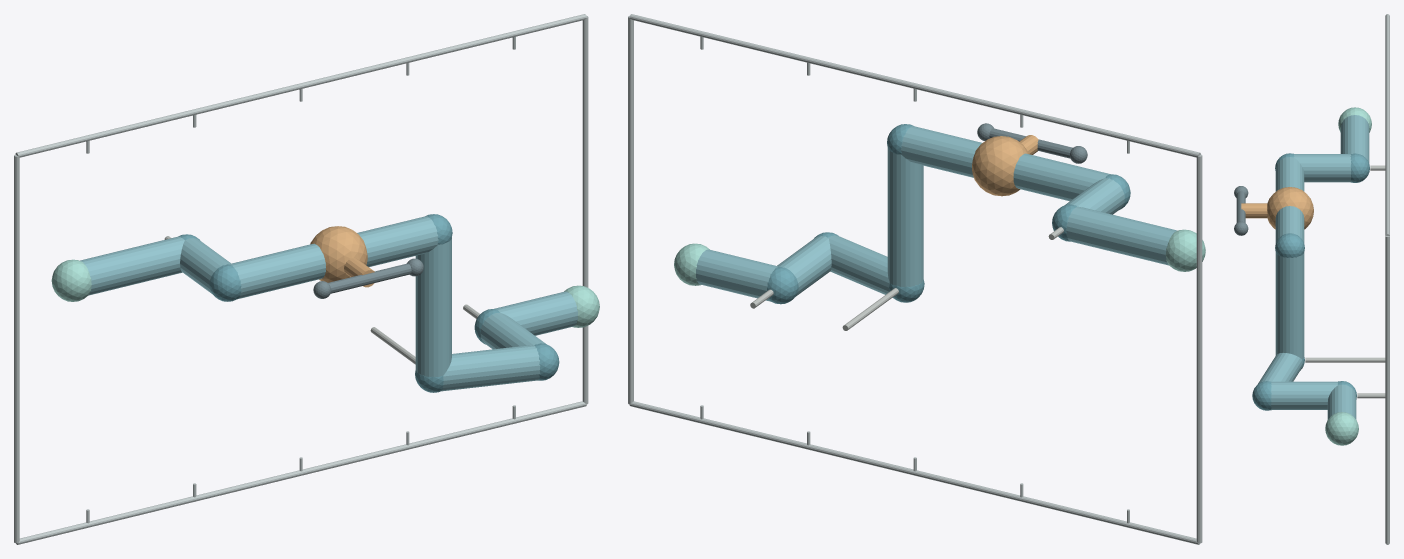
File: spatial-wall-probe.glb
The picture shows the model from 3 angles, left to right: view 1: azimuth 30°, elevation 25°; view 2: azimuth 150°, elevation 25°; view 3: azimuth 270°, elevation 25°; orthographic projection. The views are drawn at different scales.
Parts seen in each view (by area): view 1: pipe, wall, joint, valve, terminals, handle; view 2: pipe, wall, joint, valve, terminals, handle, support; view 3: pipe, wall, joint, valve, terminals, support, handle.
Boxes of the visible parts, x1=… form: pipe: x1=80, y1=216, x2=577, y2=391; wall: x1=14, y1=14, x2=588, y2=544; joint: x1=178, y1=214, x2=559, y2=392; valve: x1=310, y1=226, x2=374, y2=287; terminals: x1=51, y1=259, x2=599, y2=327; handle: x1=313, y1=258, x2=423, y2=298; pipe: x1=696, y1=126, x2=1177, y2=301; wall: x1=628, y1=14, x2=1202, y2=544; joint: x1=767, y1=124, x2=1130, y2=304; valve: x1=972, y1=135, x2=1038, y2=196; terminals: x1=674, y1=229, x2=1205, y2=285; handle: x1=977, y1=123, x2=1087, y2=163; support: x1=750, y1=227, x2=1063, y2=330; pipe: x1=1258, y1=115, x2=1369, y2=419; wall: x1=1385, y1=14, x2=1389, y2=544; joint: x1=1252, y1=153, x2=1369, y2=410; valve: x1=1241, y1=187, x2=1313, y2=229; terminals: x1=1325, y1=107, x2=1371, y2=445; support: x1=1305, y1=165, x2=1385, y2=398; handle: x1=1234, y1=186, x2=1248, y2=235.
Bounding box in the file's own units: 1.61 × 1.05 × 0.479.
